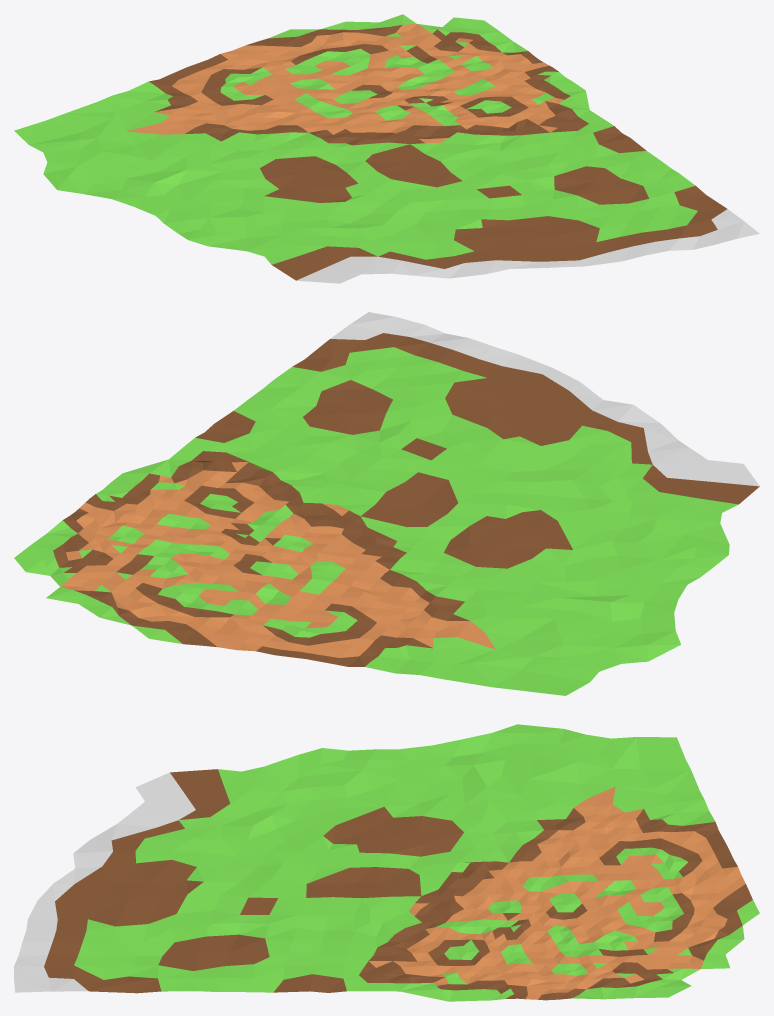
Rendered from Ground_01_3_loc_test.fbx.
3 renders of one model, top to bottom at view 1: azimuth 30°, elevation 25°; view 2: azimuth 150°, elevation 25°; view 3: azimuth 270°, elevation 25°, orthographic. The views are drawn at different scales.
Parts seen in each view (by area): view 1: Ground_01_3; view 2: Ground_01_3; view 3: Ground_01_3.
Boxes of the visible parts, x1,y1,x2,y2 form: Ground_01_3: [14, 14, 759, 283]; Ground_01_3: [14, 312, 759, 695]; Ground_01_3: [14, 724, 759, 1001].
Size of the model in its own units: 12007 by 92.79 by 13649.
